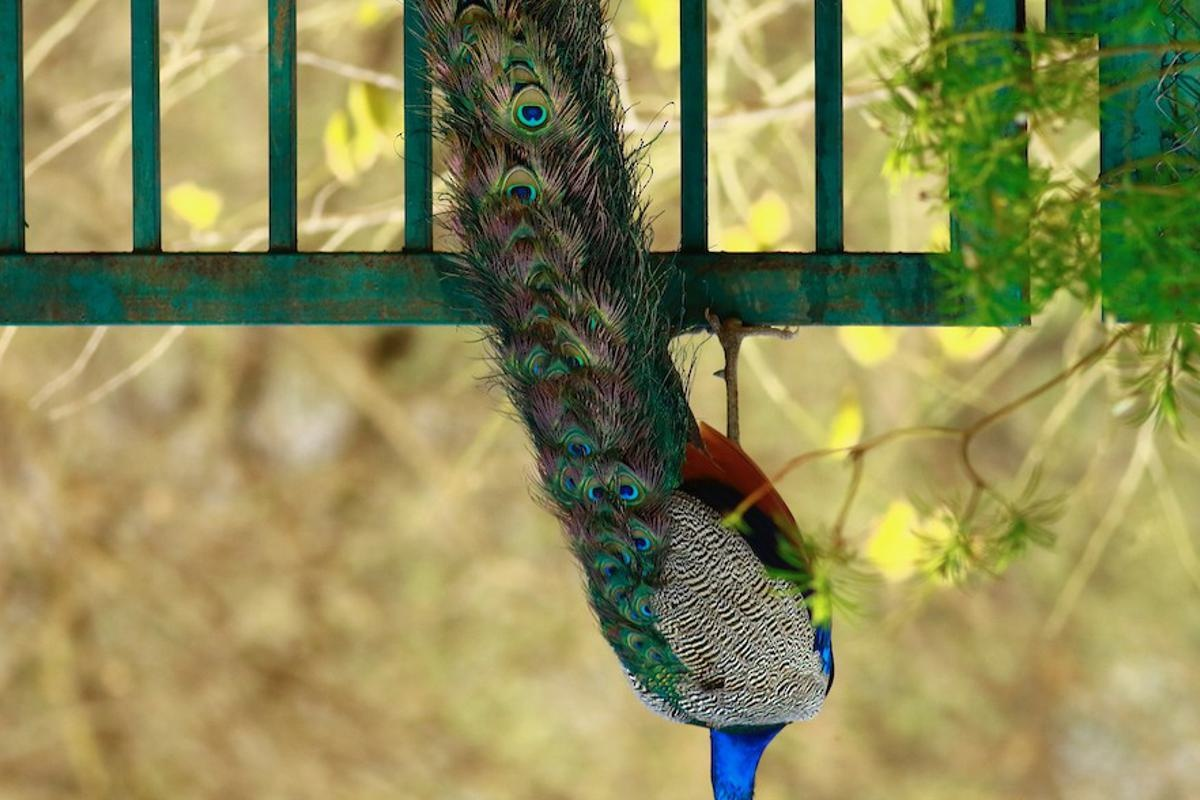peacock: (268, 1, 841, 798)
